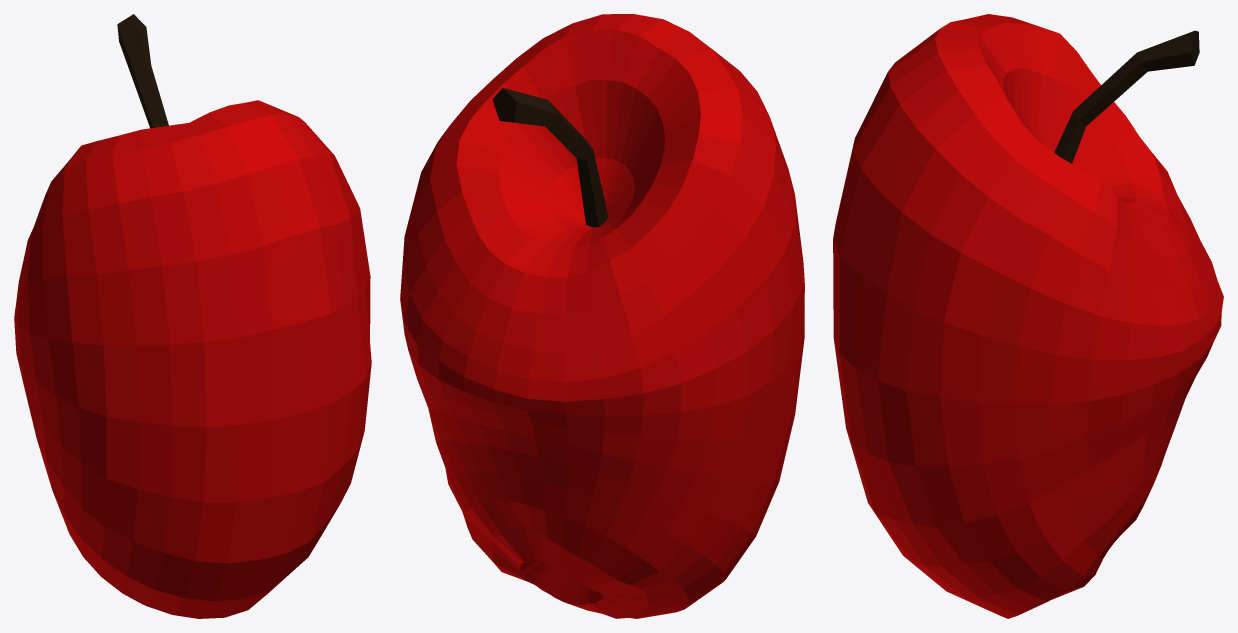
File: Bouncing_apple_000002.obj
3 renders of one model, left to right at view 1: azimuth 30°, elevation 25°; view 2: azimuth 150°, elevation 25°; view 3: azimuth 270°, elevation 25°, orthographic. The views are drawn at different scales.
Parts seen in each view (by area): view 1: Bouncing_apple.001_Cylinder.005; view 2: Bouncing_apple.001_Cylinder.005; view 3: Bouncing_apple.001_Cylinder.005.
Boxes of the visible parts, left/top/right/bottom form: Bouncing_apple.001_Cylinder.005: left=14, top=14, right=371, bottom=618; Bouncing_apple.001_Cylinder.005: left=400, top=14, right=804, bottom=618; Bouncing_apple.001_Cylinder.005: left=833, top=14, right=1223, bottom=618.
Size of the model in its own units: 1.58 by 2.55 by 1.56.
